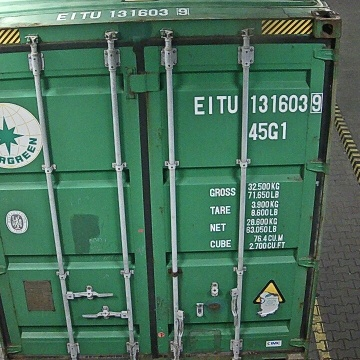serial_id: (194, 93, 321, 114)
